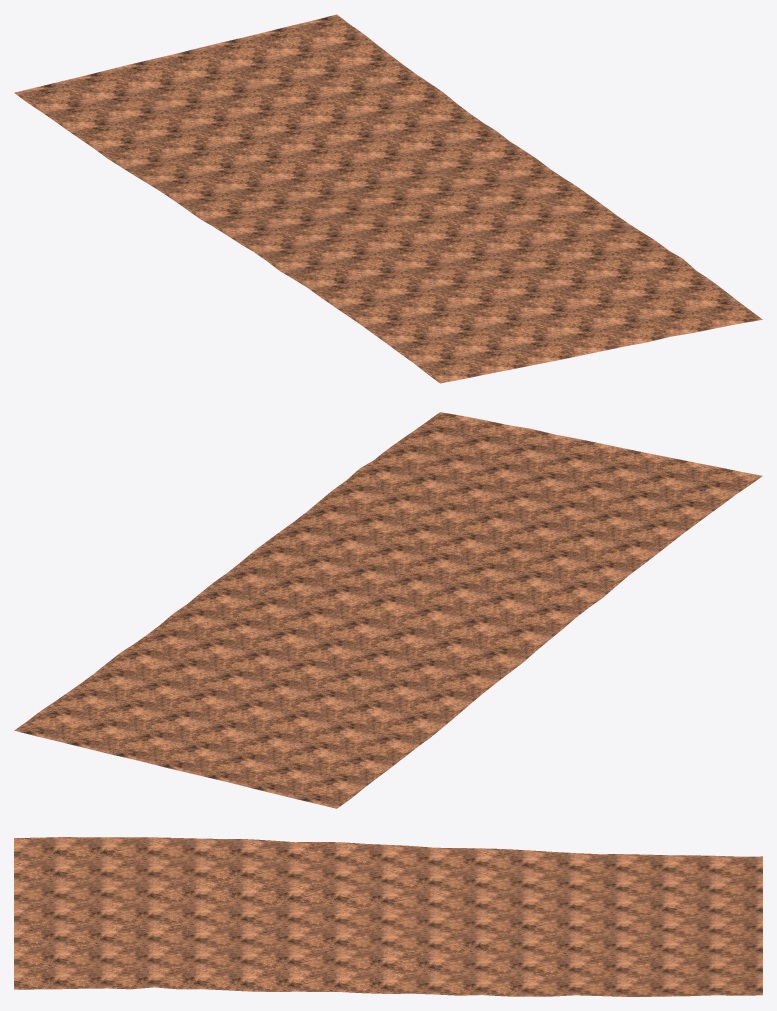
File: terrain_10_23.dae
The picture shows the model from 3 angles, top to bottom: view 1: azimuth 30°, elevation 25°; view 2: azimuth 150°, elevation 25°; view 3: azimuth 270°, elevation 25°; orthographic projection. The views are drawn at different scales.
Visible parts, largest first — view 1: terrain_10_23-node; view 2: terrain_10_23-node; view 3: terrain_10_23-node.
Boxes of the visible parts, x1,y1,x2,y2 form: terrain_10_23-node: [14, 14, 762, 383]; terrain_10_23-node: [14, 412, 762, 808]; terrain_10_23-node: [14, 837, 762, 996].
Size of the model in its own units: 56 by 128 by 4.03.
1 material, 1 textured.
